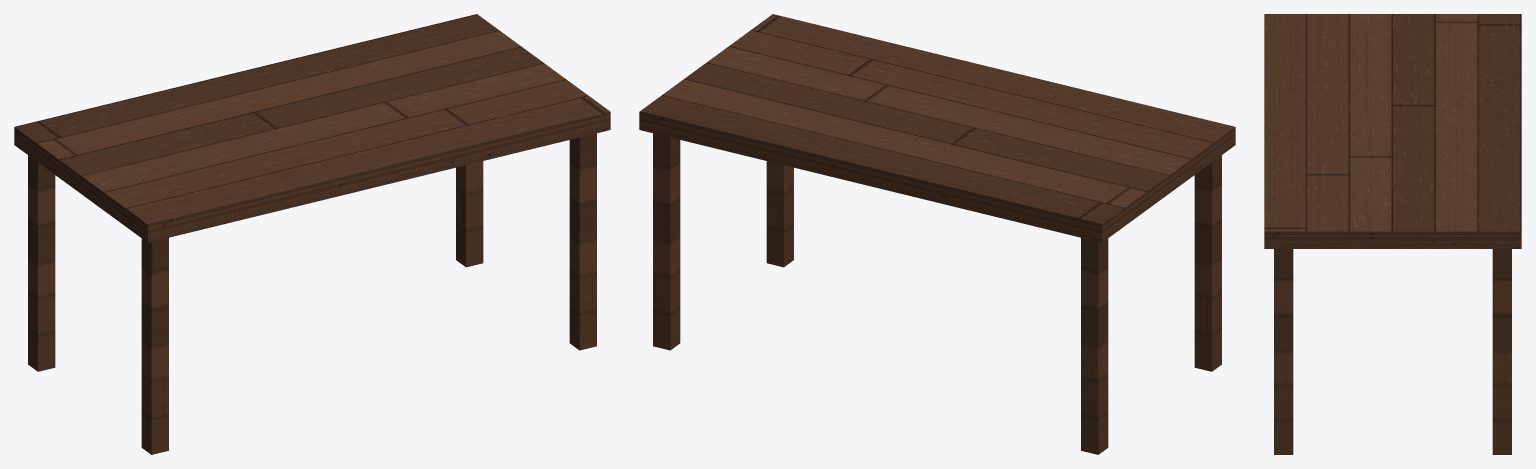
Rendered from table.glb.
3 views of the same model, side by side, from view 1: azimuth 30°, elevation 25°; view 2: azimuth 150°, elevation 25°; view 3: azimuth 270°, elevation 25° (orthographic). The views are drawn at different scales.
Visible parts, largest first — view 1: table; view 2: table; view 3: table.
Part boxes in pixels (x1,y1,x2,y2): table: (14,14,610,454); table: (639,14,1235,454); table: (1264,14,1521,454).
Size of the model in its own units: 1.6 by 0.78 by 0.8.
5 materials, 5 textured.
